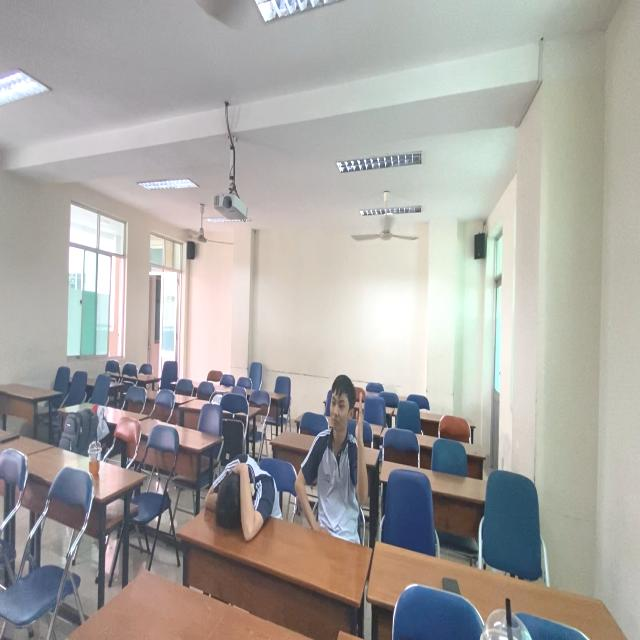raise_hand: (299, 369, 376, 538)
sleep: (197, 443, 288, 555)
